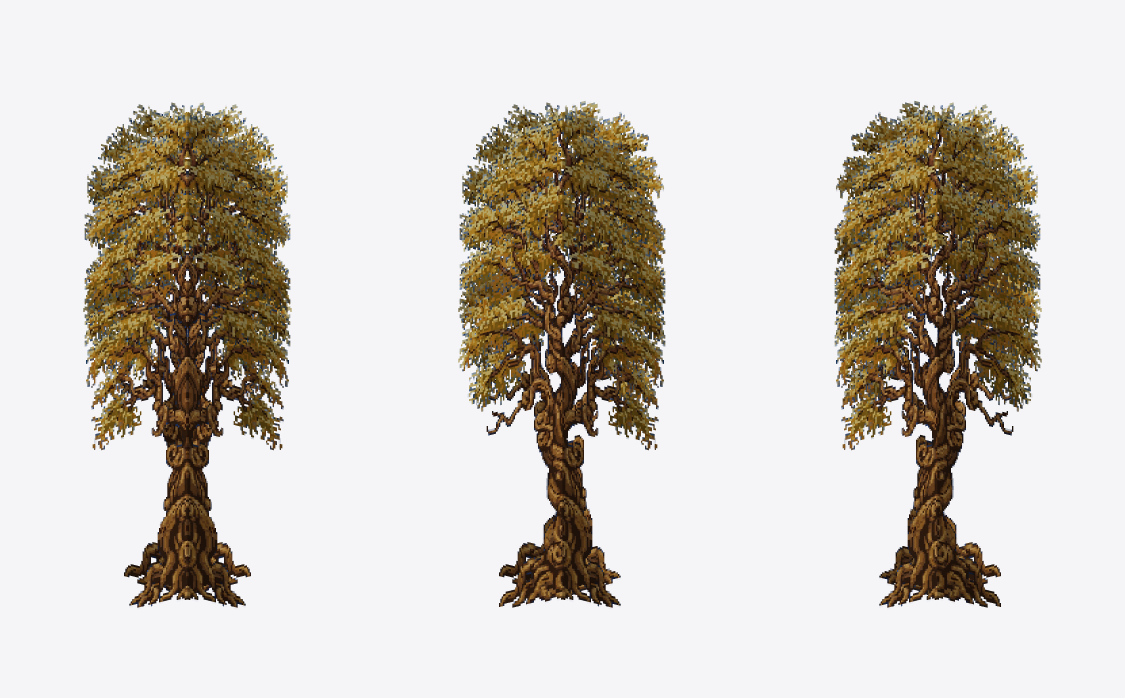
File: tree_v2_04.glb
3 renders of one model, left to right at view 1: azimuth 30°, elevation 25°; view 2: azimuth 150°, elevation 25°; view 3: azimuth 270°, elevation 25°, orthographic.
Parts seen in each view (by area): view 1: tree_v2_04; view 2: tree_v2_04; view 3: tree_v2_04.
Boxes of the visible parts, x1,y1,x2,y2 form: tree_v2_04: (83, 102, 291, 607); tree_v2_04: (458, 101, 665, 607); tree_v2_04: (834, 101, 1041, 607).
Bounding box in the file's own units: 12.6 × 17.4 × 10.91.
1 material, 1 textured.
